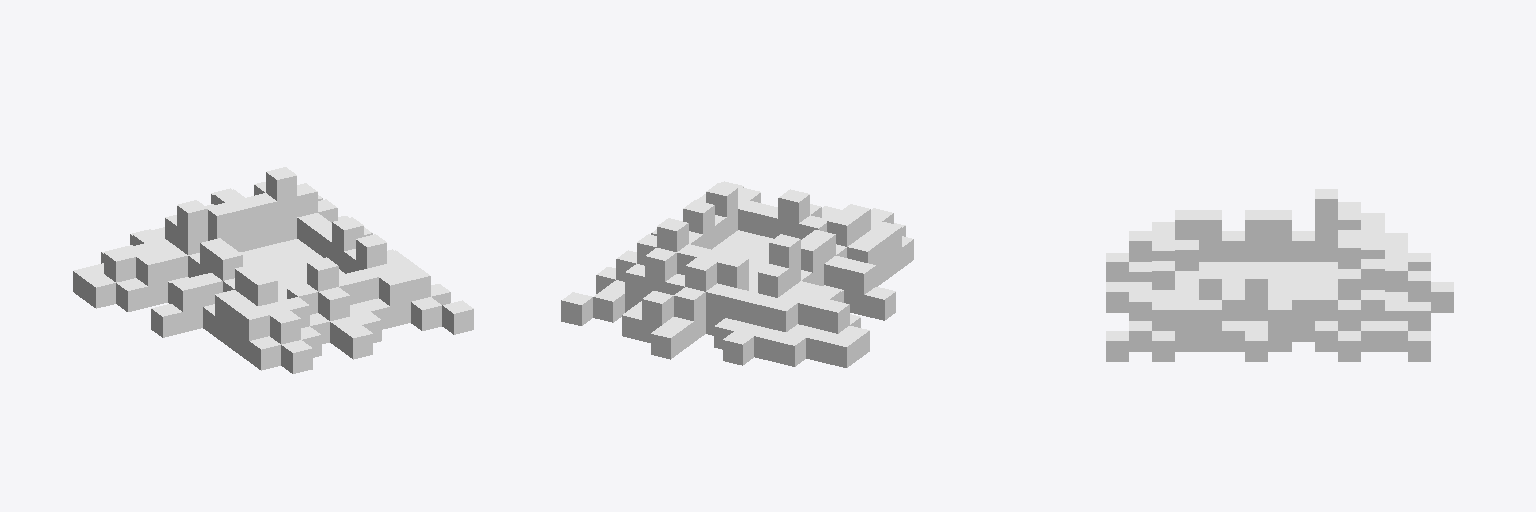
The model's file is fogata.obj.
3 renders of one model, left to right at view 1: azimuth 30°, elevation 25°; view 2: azimuth 150°, elevation 25°; view 3: azimuth 270°, elevation 25°, orthographic.
Visible parts, largest first — view 1: object 1; view 2: object 1; view 3: object 1.
Part boxes in pixels (bbox=[...]): object 1: bbox=[73, 167, 473, 373]; object 1: bbox=[561, 181, 913, 367]; object 1: bbox=[1106, 189, 1453, 361].
Bounding box in the file's own units: 1.3 × 0.4 × 1.5.